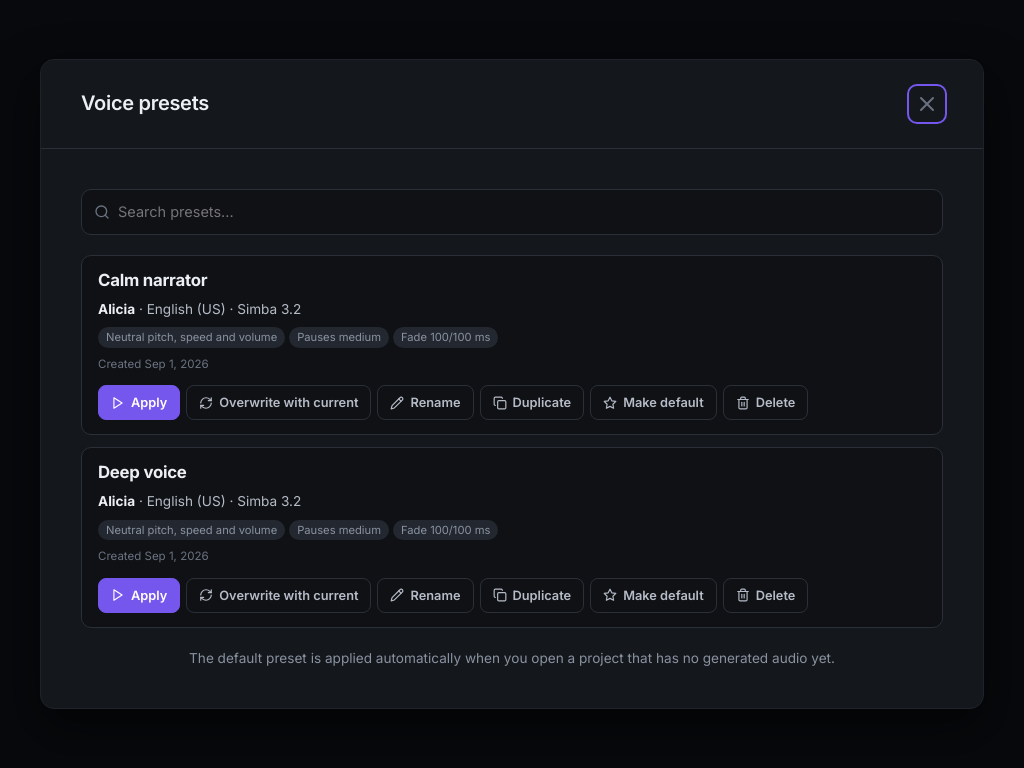
Test: PresetManagerModal › filters by search
The image size is (1024, 768).
In the search field labelled "Search presets": x=524, y=212 top-left (118, 190), bottom-right (930, 234), type "deep"
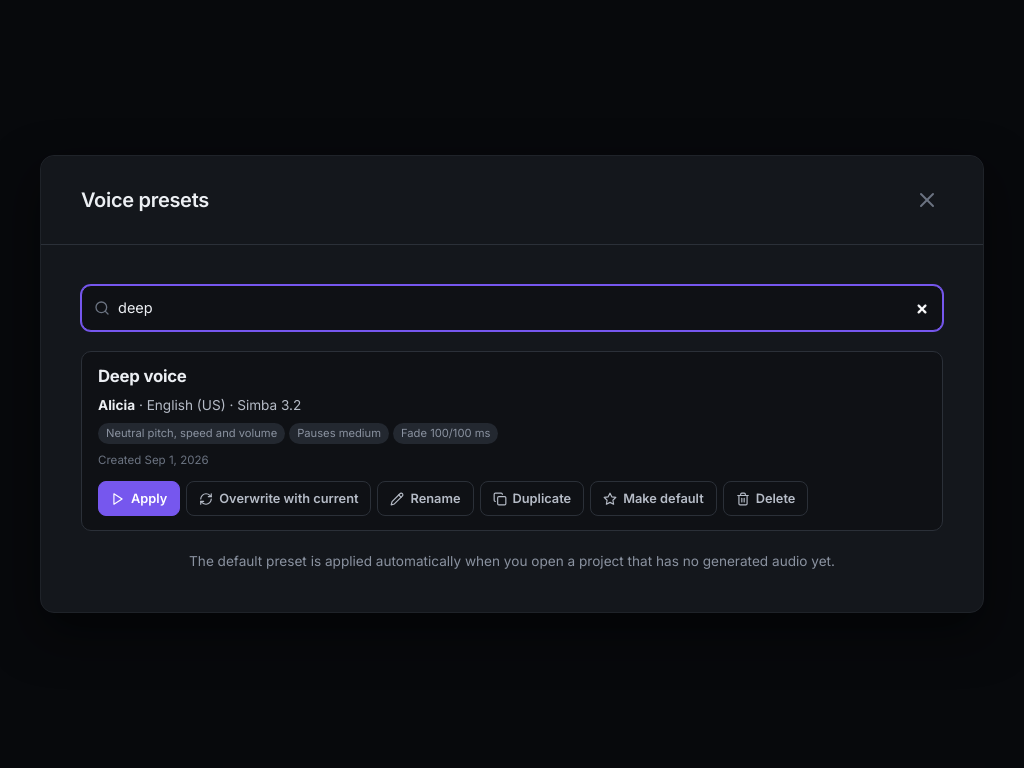
Expected: the heading "Deep voice" is shown, top-left (98, 366), bottom-right (187, 386)
Expected: the number of list items is 1, top-left (81, 351), bottom-right (943, 532)
